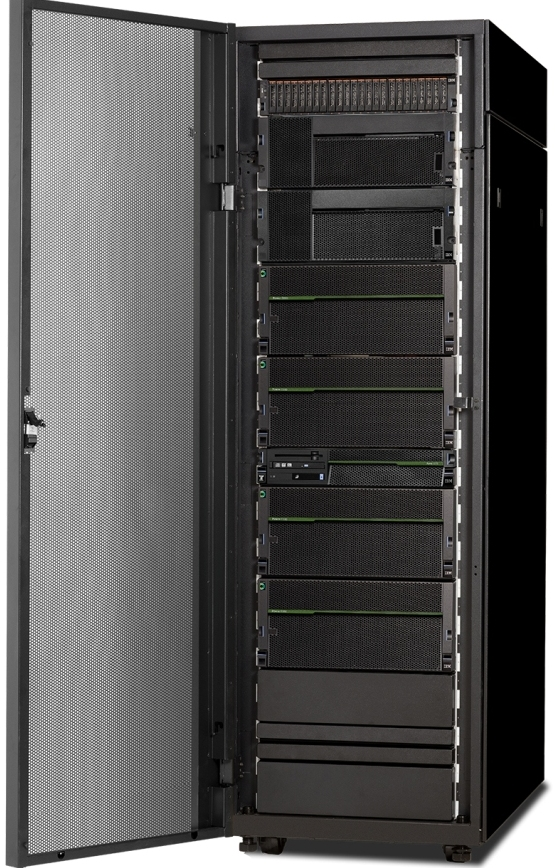ibm-server: (196, 9, 541, 863)
